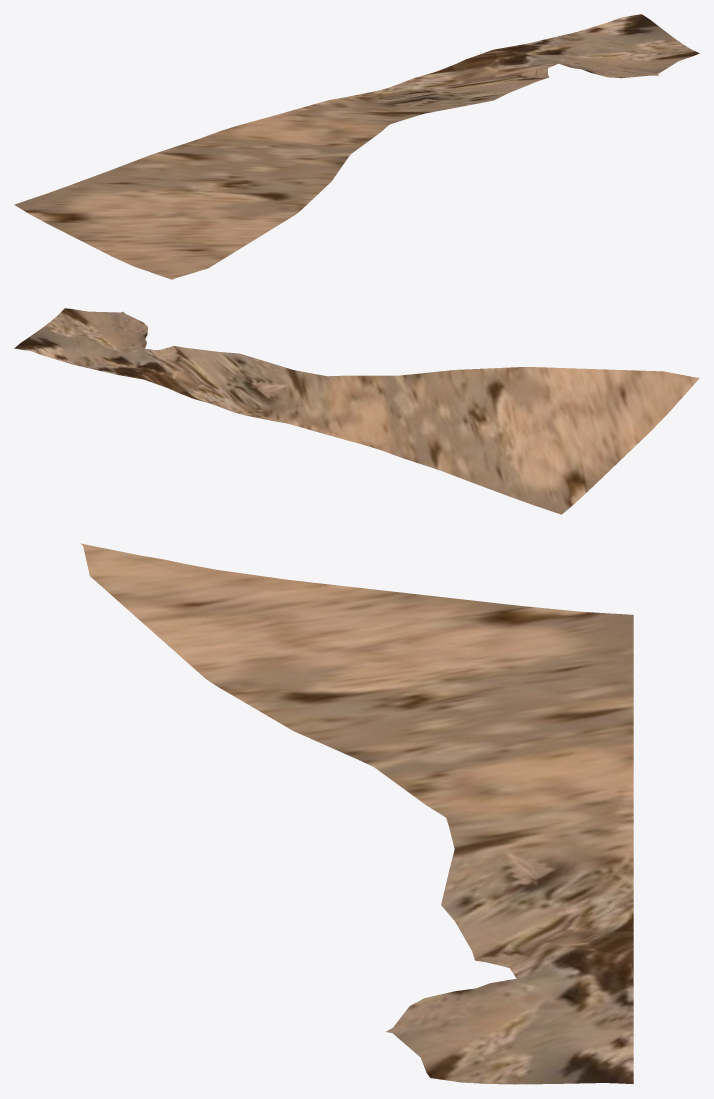
The picture shows the model from 3 angles, top to bottom: view 1: azimuth 30°, elevation 25°; view 2: azimuth 150°, elevation 25°; view 3: azimuth 270°, elevation 25°; orthographic projection. The views are drawn at different scales.
Size of the model in its own units: 4.18 by 0.26 by 1.83.
1 material, 1 textured.
